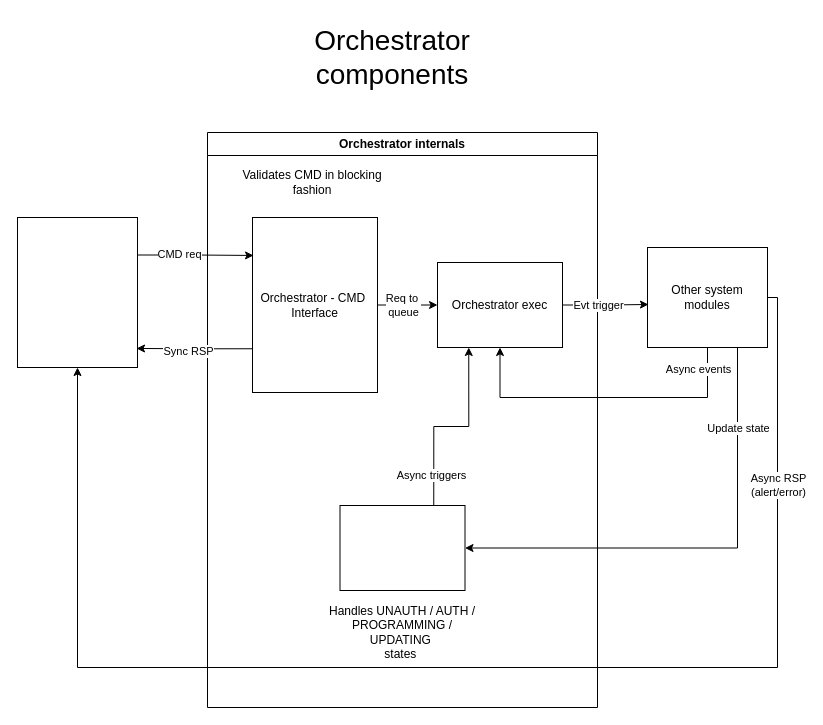
Image size: 823x725. Some labels were removed from this diagram. Each missing label, with the centre of its shape:
"CMD service" goes at (x=77, y=292).
"Orchestrator FSM" goes at (x=402, y=547).
